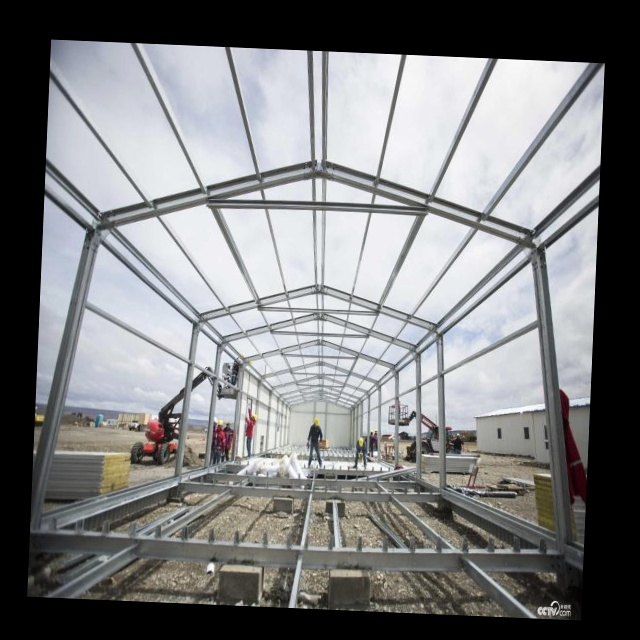Con_Casco: (314, 417, 320, 428), (358, 437, 364, 448)
